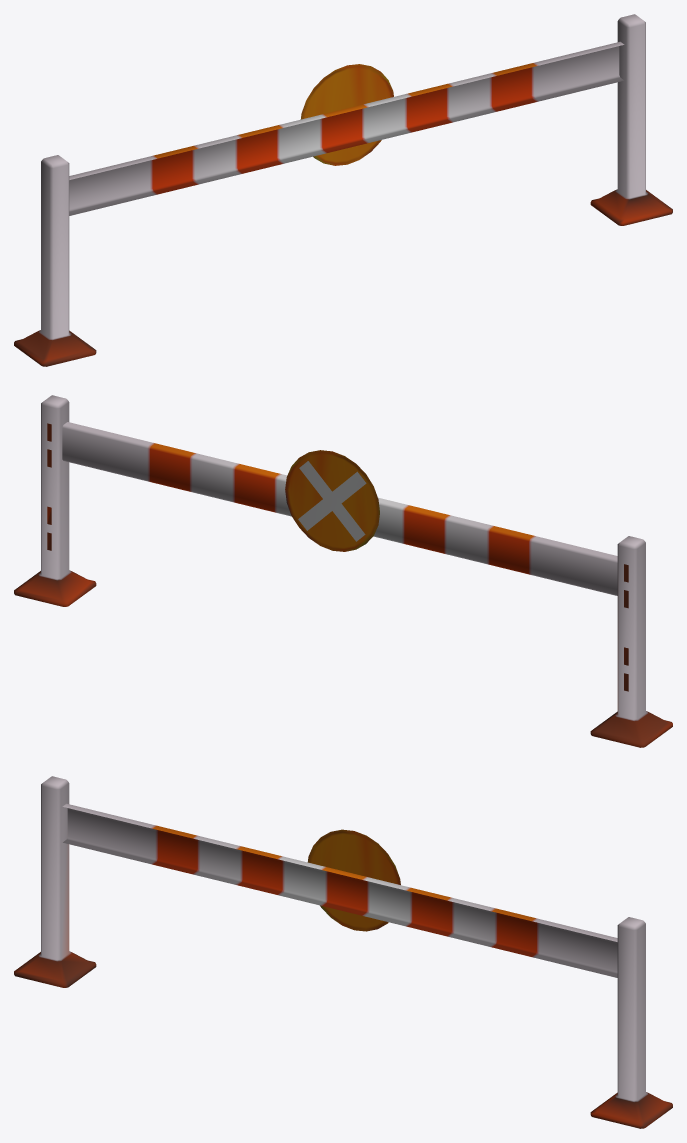
Rendered from ObstacleRoadWorksBarrierHigh_Death.fbx.
3 views of the same model, one above another, from view 1: azimuth 30°, elevation 25°; view 2: azimuth 150°, elevation 25°; view 3: azimuth 330°, elevation 25° (orthographic).
Parts seen in each view (by area): view 1: RoadWorksBarrierHigh; view 2: RoadWorksBarrierHigh; view 3: RoadWorksBarrierHigh.
Boxes of the visible parts, x1=… form: RoadWorksBarrierHigh: x1=14, y1=14, x2=672, y2=366; RoadWorksBarrierHigh: x1=14, y1=395, x2=672, y2=747; RoadWorksBarrierHigh: x1=14, y1=776, x2=672, y2=1128.
Size of the model in its own units: 497 by 158 by 42.57.
